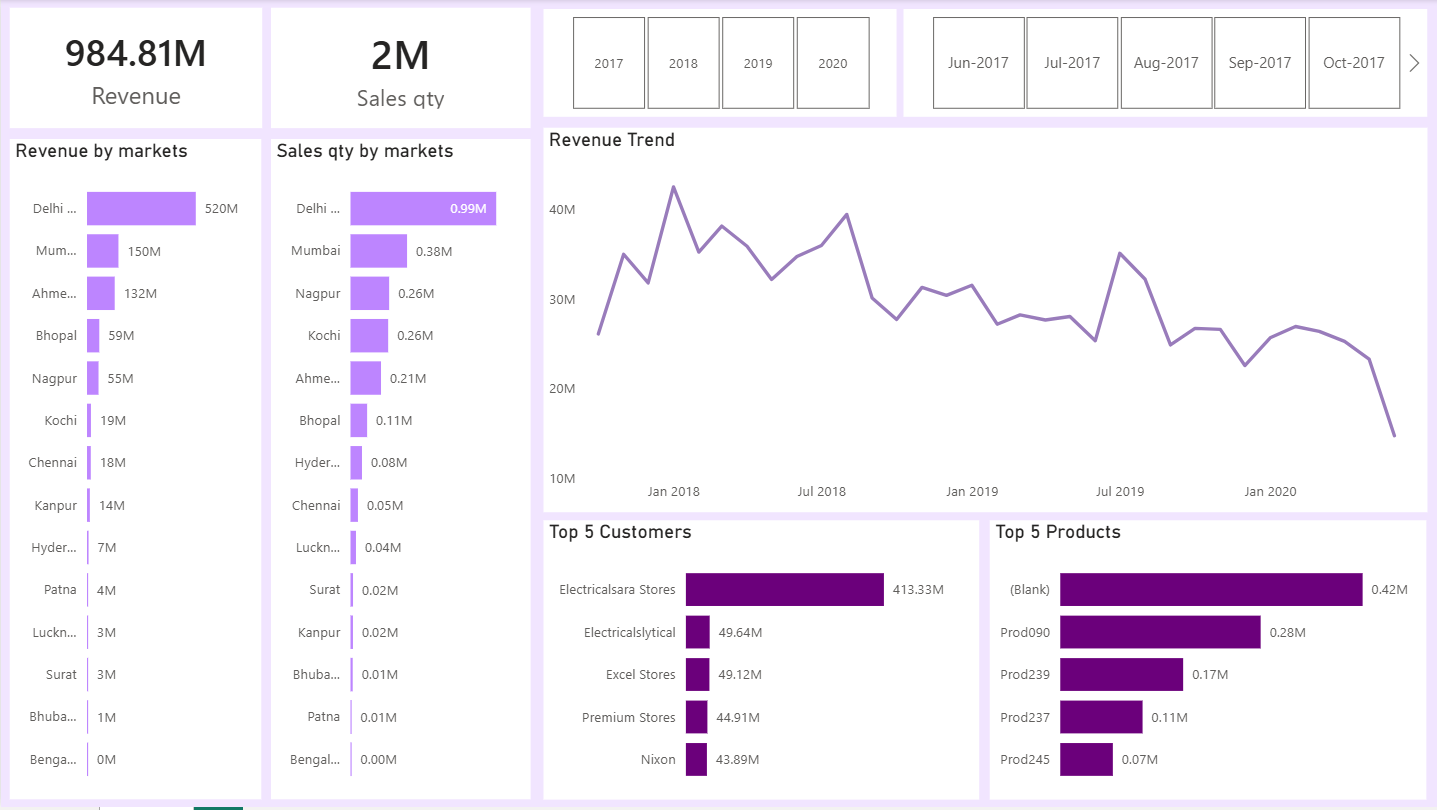

This screenshot's page, from the dashboard's own definition file:
{"tool":"powerbi","page":{"name":"Page 1","canvas":[1280,720],"ordinal":0},"visuals":[{"type":"cardVisual","fields":{"Data":["BaseMEasures.Revenue"]},"box":[8,8,225,107],"z":0},{"type":"cardVisual","fields":{"Data":["BaseMEasures.Sales qty"]},"box":[241,8,231,107],"z":1000},{"type":"barChart","title":"Revenue by markets","fields":{"Y":["BaseMEasures.Revenue"],"Category":["sales markets.markets_name"]},"box":[8,125,224,588],"z":2000},{"type":"barChart","title":"Sales qty by markets","fields":{"Y":["BaseMEasures.Sales qty"],"Category":["sales markets.markets_name"]},"box":[241,125,231,588],"z":3000},{"type":"slicer","fields":{"Values":["sales date.year"]},"box":[483,9,314,96],"z":4000},{"type":"slicer","fields":{"Values":["sales date.cy_date"]},"box":[804,9,466,96],"z":5000},{"type":"barChart","title":"Top 5 Customers","fields":{"Category":["sales customers.custmer_name"],"Y":["BaseMEasures.Revenue"]},"box":[483,464,388,249],"z":6000},{"type":"barChart","title":"Top 5 Products","fields":{"Y":["BaseMEasures.Sales qty"],"Category":["sales products.product_code"]},"box":[881,464,389,249],"z":7000},{"type":"lineChart","title":"Revenue Trend","fields":{"Y":["BaseMEasures.Revenue"],"Category":["sales date.cy_date.Variation.Date Hierarchy.Year","sales date.cy_date.Variation.Date Hierarchy.Quarter","sales date.cy_date.Variation.Date Hierarchy.Month","sales date.cy_date.Variation.Date Hierarchy.Day"]},"box":[483,115,787,342],"z":8000}]}

Visuals, with their boxes in screenshot pixels (x1, y1, x2, y2), scaled from the page's 1280x720 canvas onto the 1437x810 screenshot:
cardVisual - BaseMEasures.Revenue: region(9, 9, 262, 129)
cardVisual - BaseMEasures.Sales qty: region(271, 9, 530, 129)
"Revenue by markets" barChart: region(9, 141, 260, 802)
"Sales qty by markets" barChart: region(271, 141, 530, 802)
slicer - sales date.year: region(542, 10, 895, 118)
slicer - sales date.cy_date: region(903, 10, 1426, 118)
"Top 5 Customers" barChart: region(542, 522, 978, 802)
"Top 5 Products" barChart: region(989, 522, 1426, 802)
"Revenue Trend" lineChart: region(542, 129, 1426, 514)
